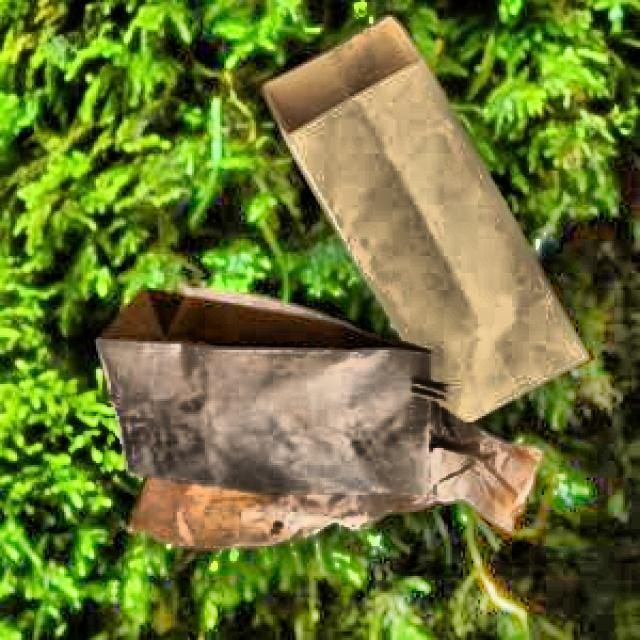Paper-bag: (247, 8, 591, 440), (126, 356, 544, 550), (89, 278, 441, 501)
